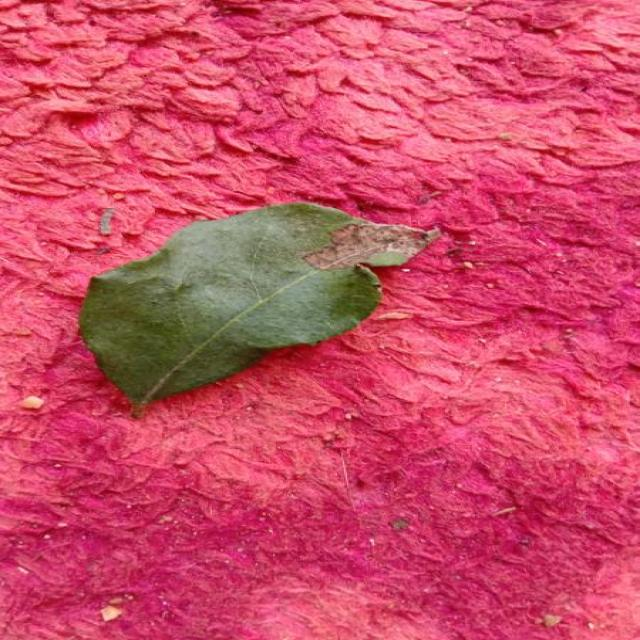leaf spot: (80, 204, 438, 413)
